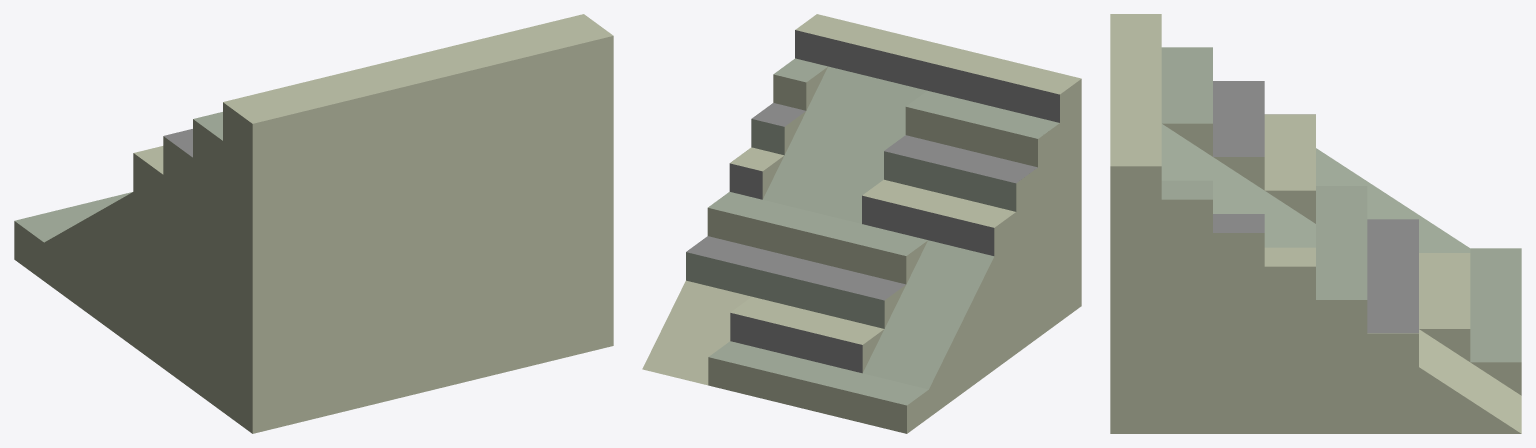
The model's file is Escalier JPP.fbx.
The picture shows the model from 3 angles, left to right: view 1: azimuth 30°, elevation 25°; view 2: azimuth 150°, elevation 25°; view 3: azimuth 270°, elevation 25°; orthographic projection. The views are drawn at different scales.
Visible parts, largest first — view 1: Stairs V0.3.1; view 2: Stairs V0.3.1; view 3: Stairs V0.3.1.
Boxes of the visible parts, x1,y1,x2,y2 form: Stairs V0.3.1: (14,14,613,433); Stairs V0.3.1: (642,14,1081,433); Stairs V0.3.1: (1110,14,1521,433).
Size of the model in its own units: 142 by 117 by 163.
